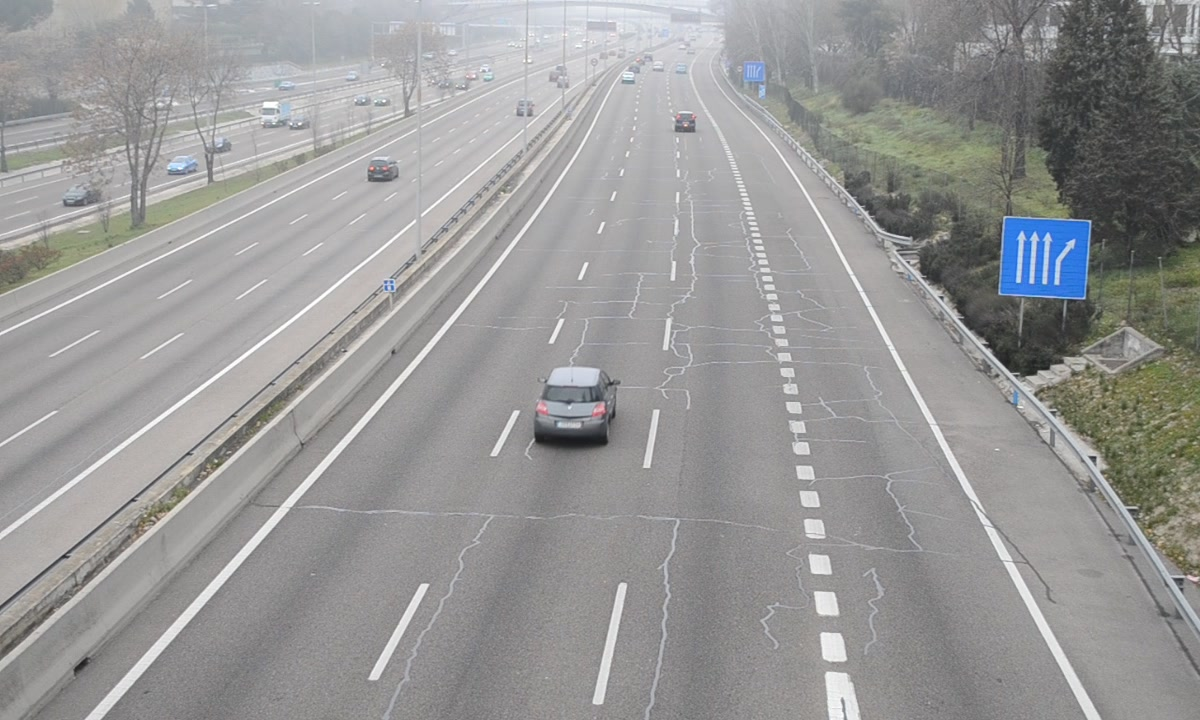car: (535, 367, 614, 442), (675, 111, 695, 133)
